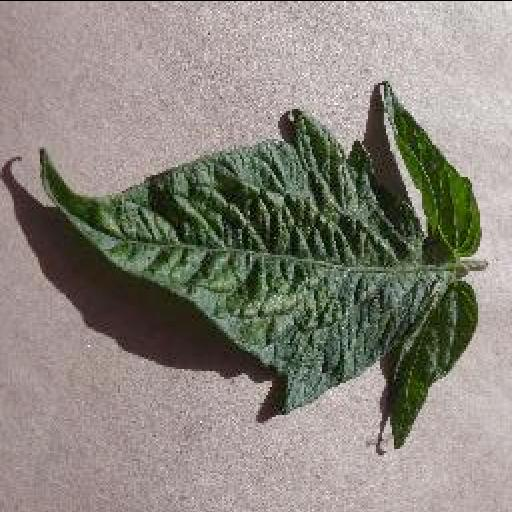disease_tomato: (38, 82, 482, 446)
